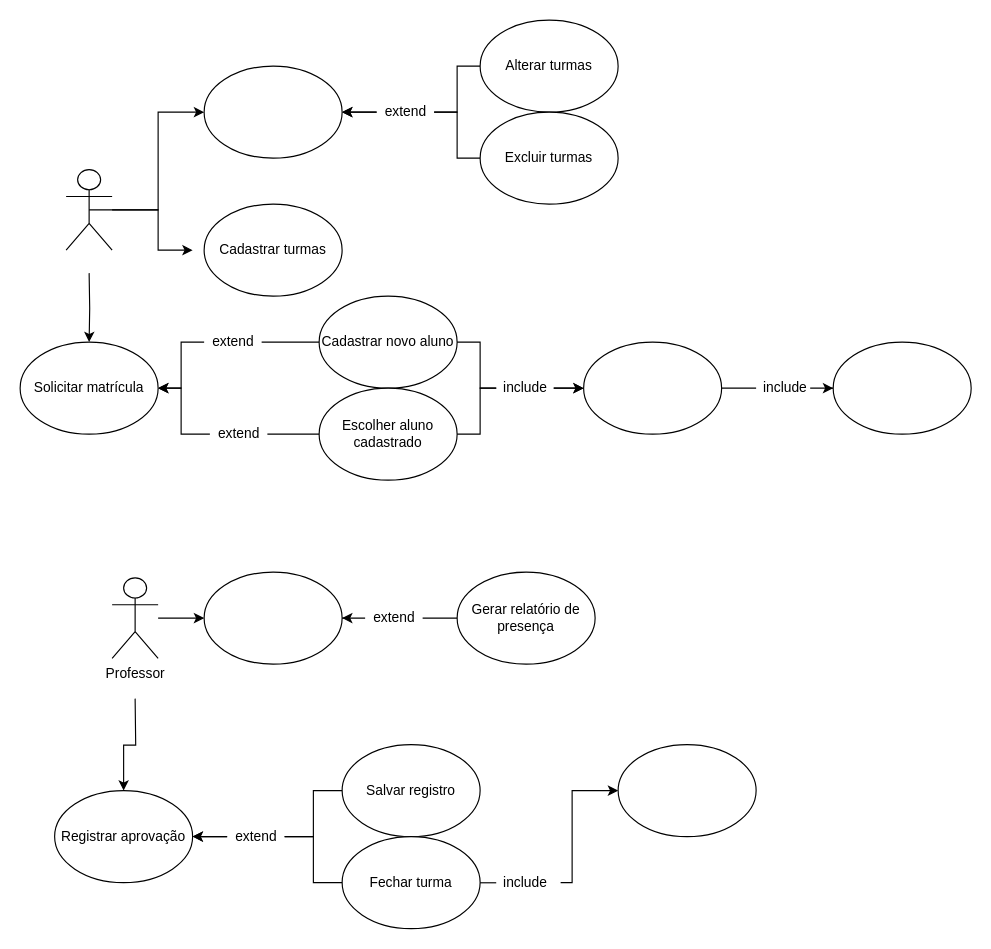
Some shapes in this 991 by 949 pixel diagram are drawn without their labels. Each missing label, with the box of its shape:
Gerar boleto: (832, 341, 971, 434)
Gerar relatório de aprovações: (617, 743, 756, 837)
Matricular aluno: (582, 341, 722, 434)
Pesquisar turma: (203, 65, 342, 158)
Realizar chamada: (203, 571, 342, 664)
Secretária: (65, 168, 112, 250)
